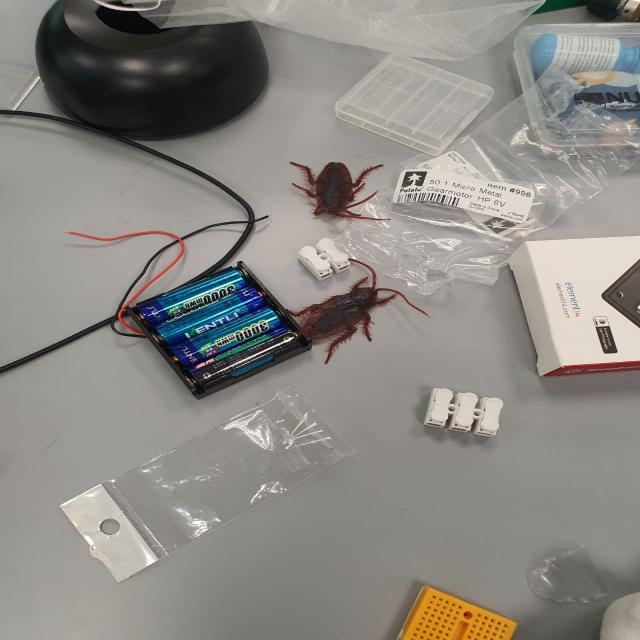Cockroach: (271, 256, 427, 368), (284, 153, 390, 235)
